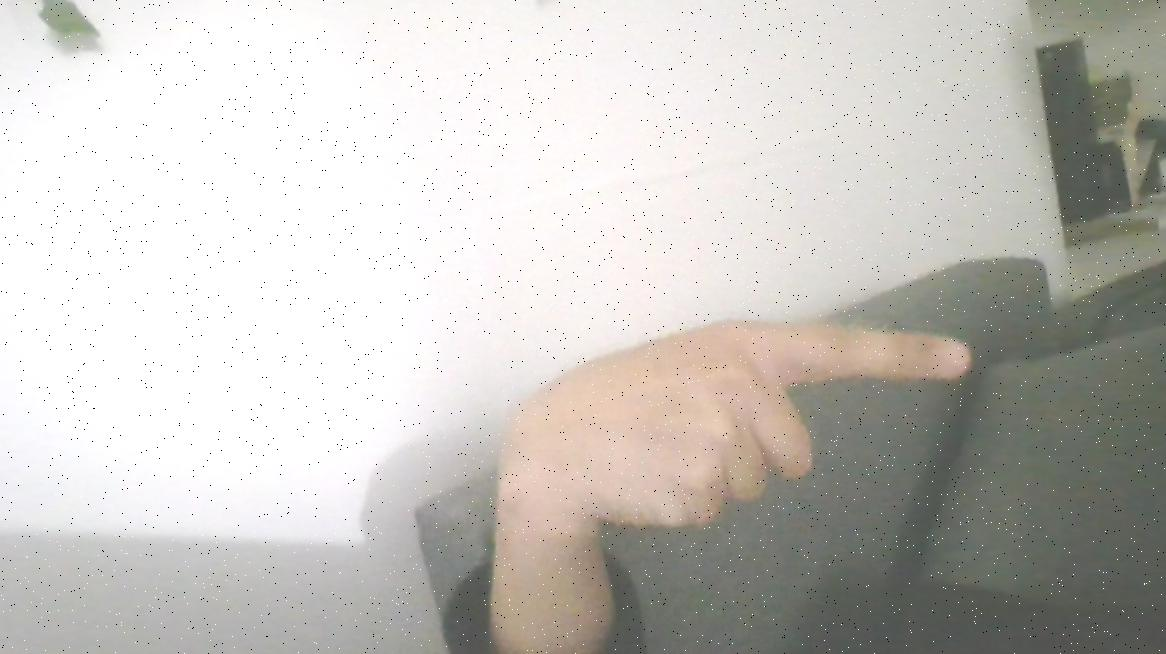right: (478, 309, 993, 555)
